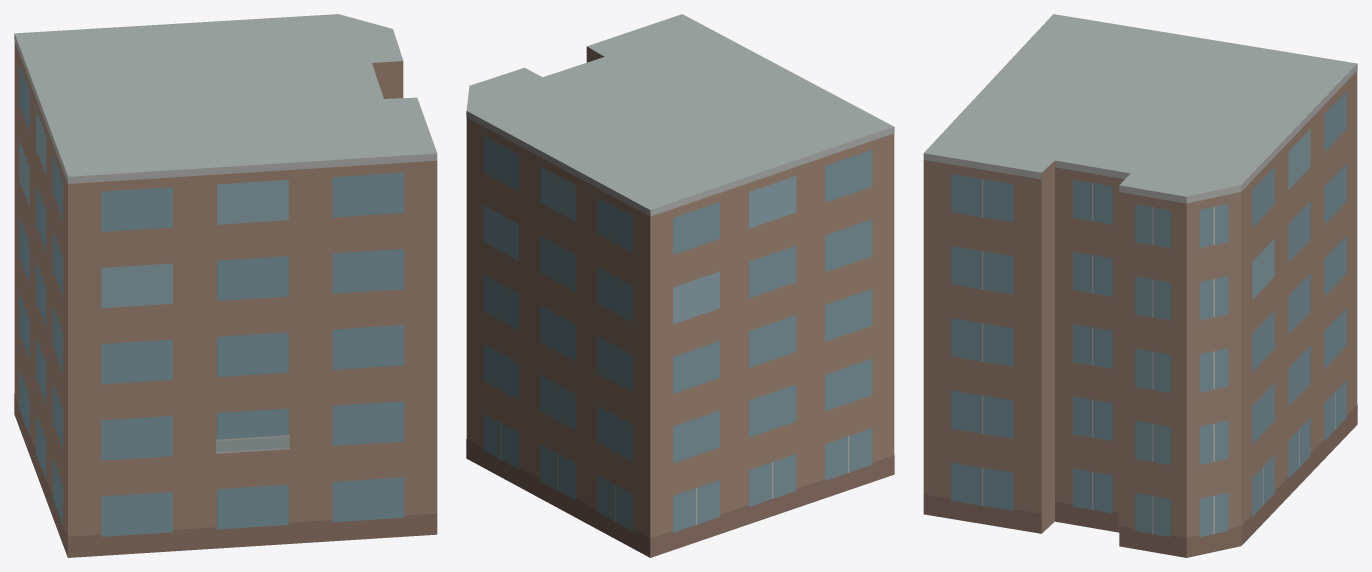
Rendered from survey-upis-33002250.glb.
3 renders of one model, left to right at view 1: azimuth 30°, elevation 25°; view 2: azimuth 150°, elevation 25°; view 3: azimuth 270°, elevation 25°, orthographic. The views are drawn at different scales.
Parts seen in each view (by area): view 1: survey-upis-33002250.tmp; view 2: survey-upis-33002250.tmp; view 3: survey-upis-33002250.tmp.
Boxes of the visible parts, bbox=[...] form: survey-upis-33002250.tmp: bbox=[14, 14, 437, 557]; survey-upis-33002250.tmp: bbox=[466, 14, 894, 557]; survey-upis-33002250.tmp: bbox=[923, 14, 1357, 557].
Bounding box in the file's own units: 14.24 × 13.1 × 14.28.
